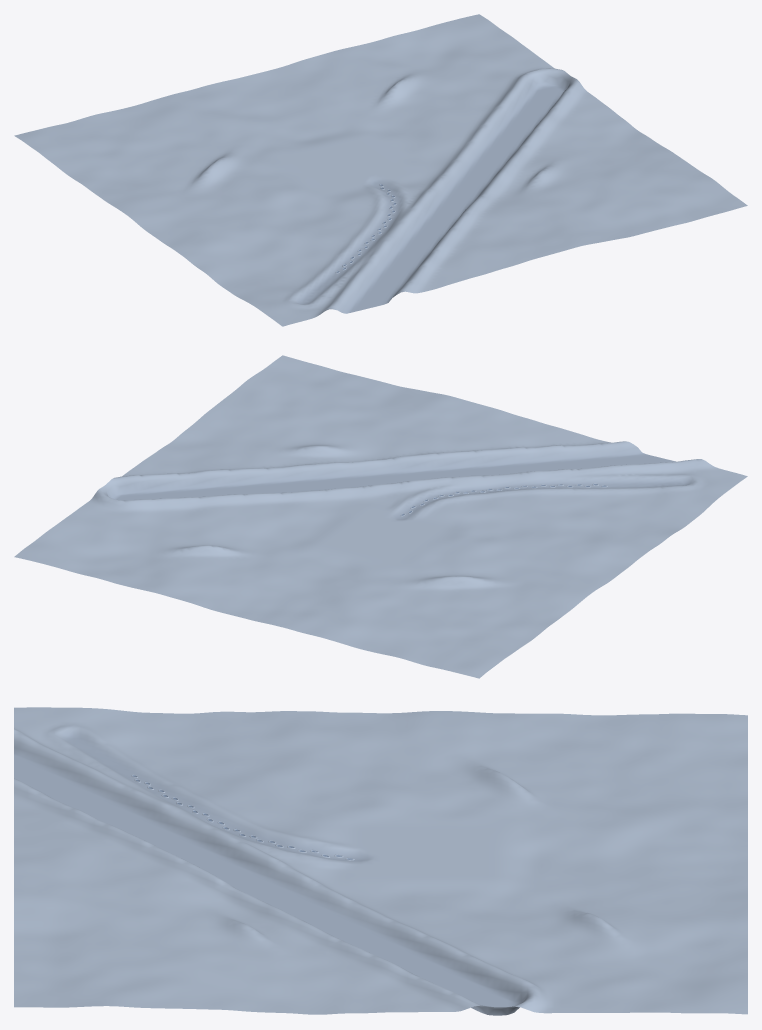
Rendered from terrain_tile_hd.glb.
3 renders of one model, top to bottom at view 1: azimuth 30°, elevation 25°; view 2: azimuth 150°, elevation 25°; view 3: azimuth 270°, elevation 25°, orthographic. The views are drawn at different scales.
Parts seen in each view (by area): view 1: Terrain; view 2: Terrain; view 3: Terrain, Footprints.
Boxes of the visible parts, left/top/right/bottom form: Terrain: left=14, top=14, right=747, bottom=326; Terrain: left=14, top=355, right=747, bottom=678; Terrain: left=14, top=707, right=747, bottom=1015; Footprints: left=131, top=774, right=354, bottom=860.
Bounding box in the file's own units: 44 × 1.38 × 44.
